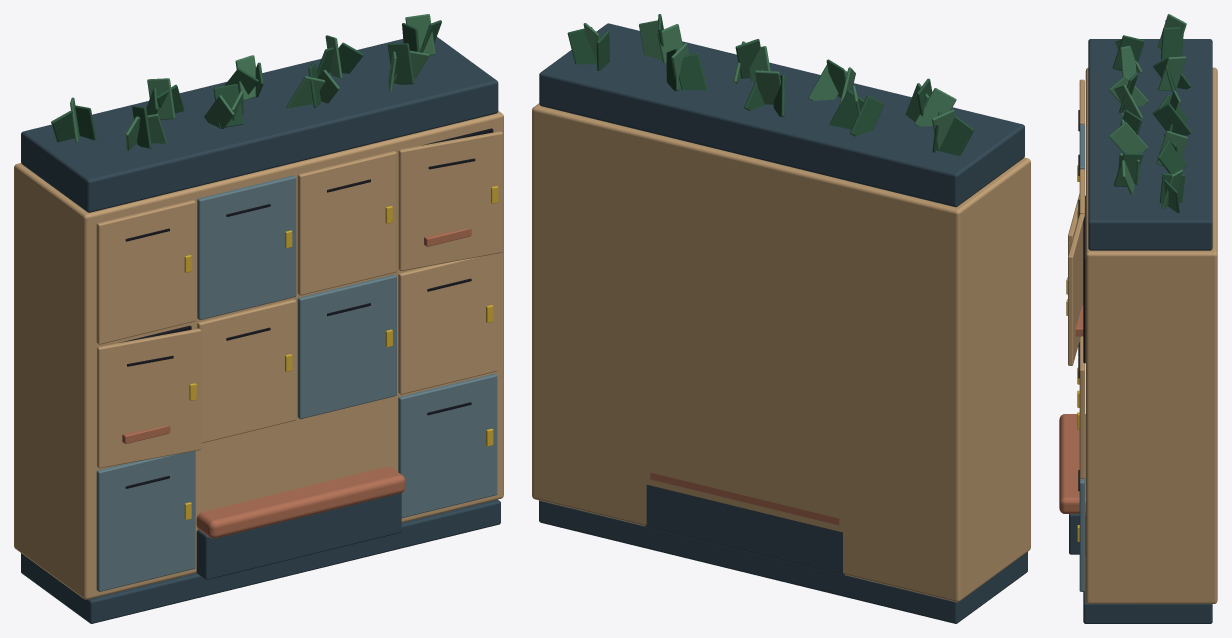
Rendered from campus-lockers-terracotta.glb.
3 renders of one model, left to right at view 1: azimuth 30°, elevation 25°; view 2: azimuth 150°, elevation 25°; view 3: azimuth 270°, elevation 25°, orthographic. The views are drawn at different scales.
Bounding box in the file's own units: 1.85 × 2.03 × 0.66.
